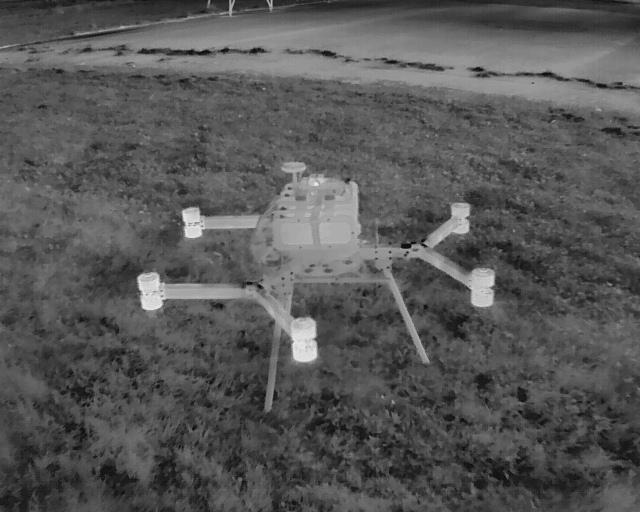drone: (76, 154, 548, 420)
